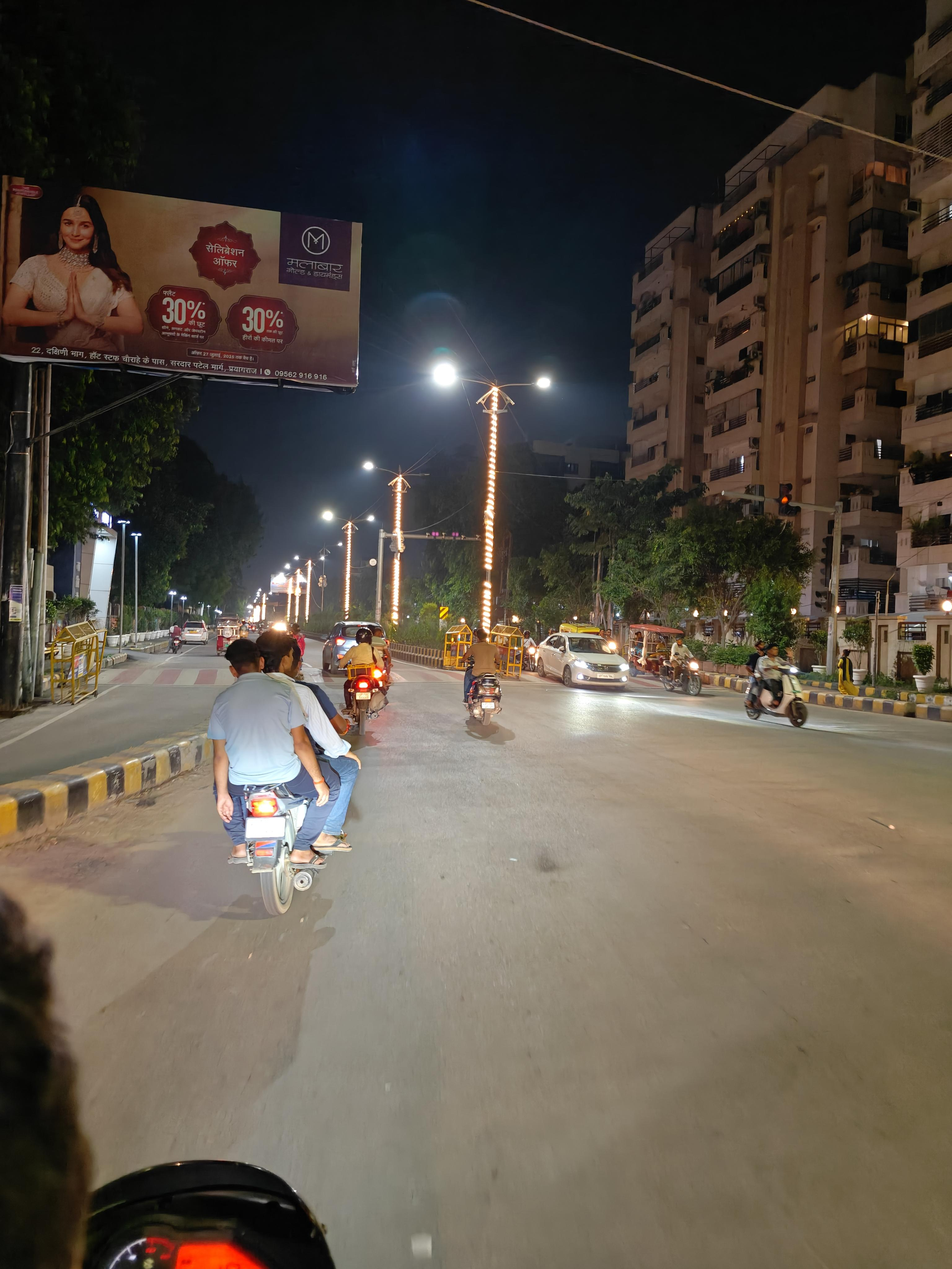streetlight: (413, 473, 431, 477)
